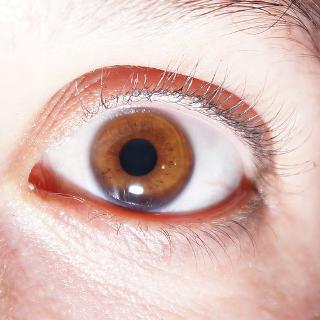pupil: (118, 139, 156, 177)
